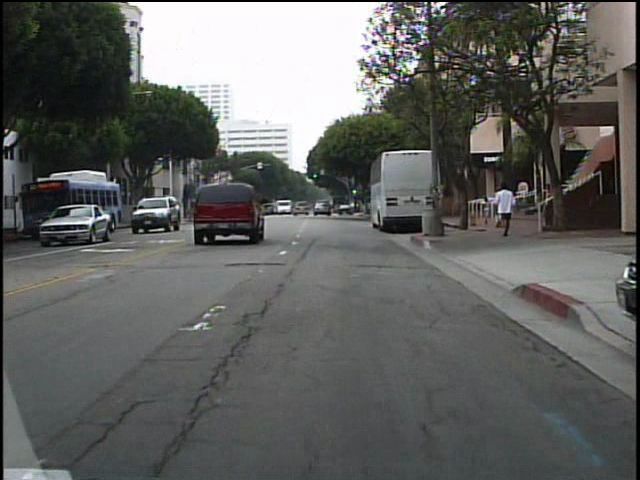person: (496, 179, 521, 239), (539, 180, 556, 234), (481, 195, 494, 229)
